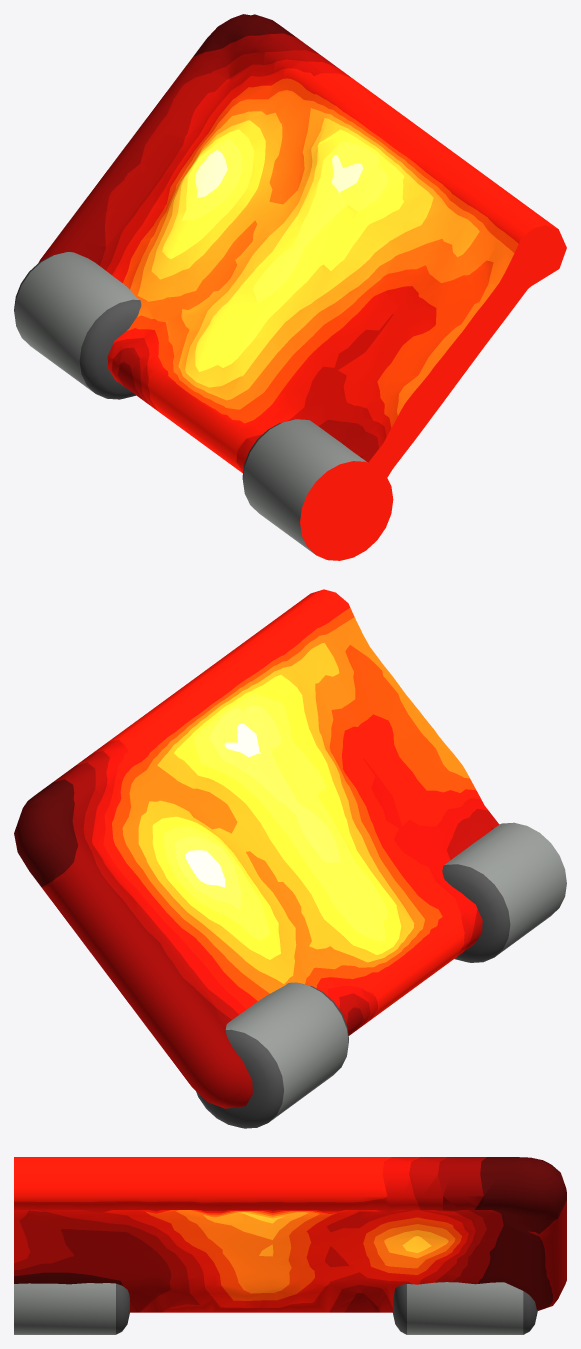
File: fire_flap_233.glb
3 views of the same model, one above another, from view 1: azimuth 30°, elevation 25°; view 2: azimuth 150°, elevation 25°; view 3: azimuth 270°, elevation 25° (orthographic). The views are drawn at different scales.
Visible parts, largest first — view 1: flap.001, knuckle1.001, knuckle0.001; view 2: flap.001, knuckle0.001, knuckle1.001; view 3: flap.001, knuckle0.001, knuckle1.001.
Part boxes in pixels (x1,y1,x2,y2): flap.001: [38, 14, 566, 538]; knuckle1.001: [242, 419, 393, 560]; knuckle0.001: [14, 252, 141, 399]; flap.001: [14, 589, 499, 1108]; knuckle0.001: [196, 982, 348, 1128]; knuckle1.001: [442, 822, 566, 962]; flap.001: [14, 1157, 566, 1312]; knuckle0.001: [393, 1282, 537, 1334]; knuckle1.001: [14, 1283, 130, 1334].
Bounding box in the file's own units: 9.44 × 9.65 × 19.
